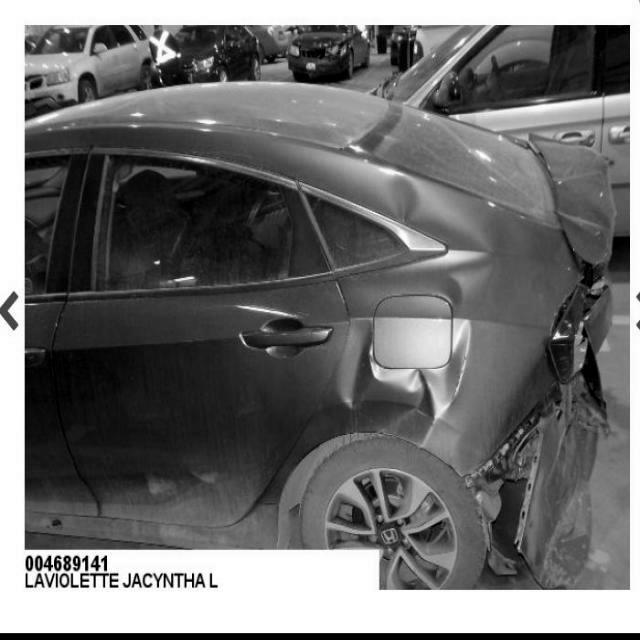quaterpanel-dent: (328, 252, 545, 477)
